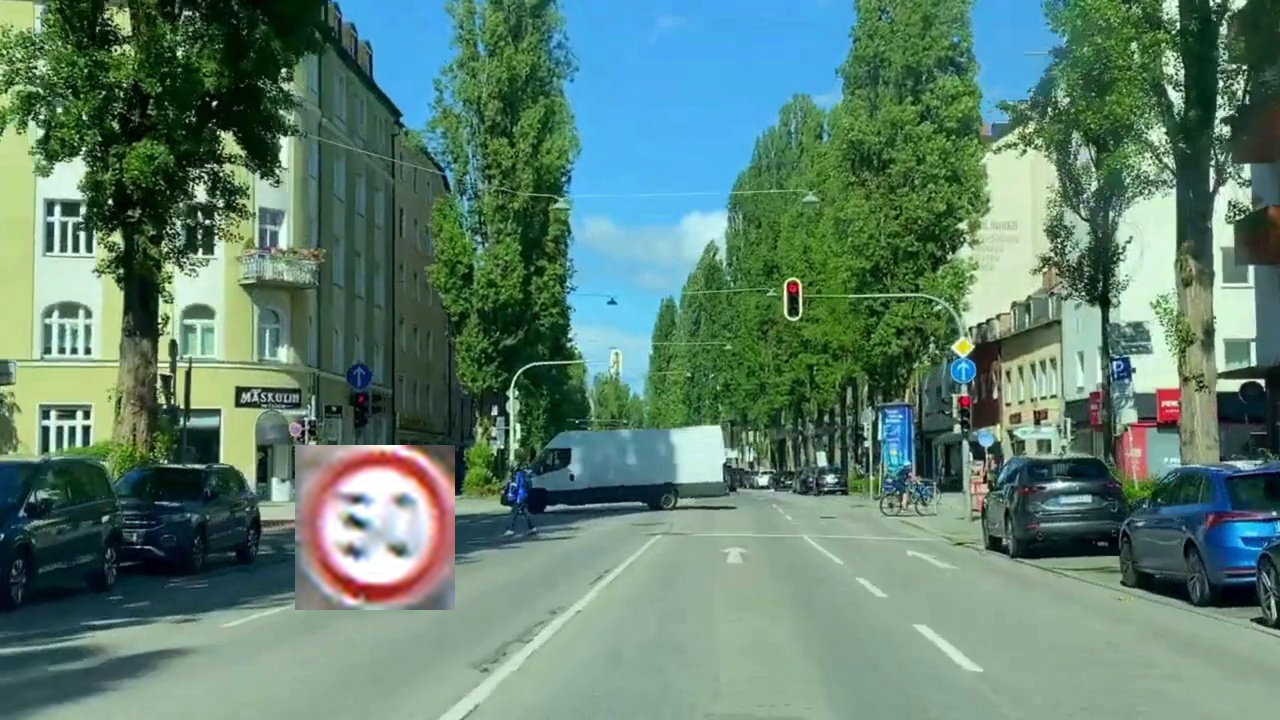Speed 50: (295, 445, 455, 610)
